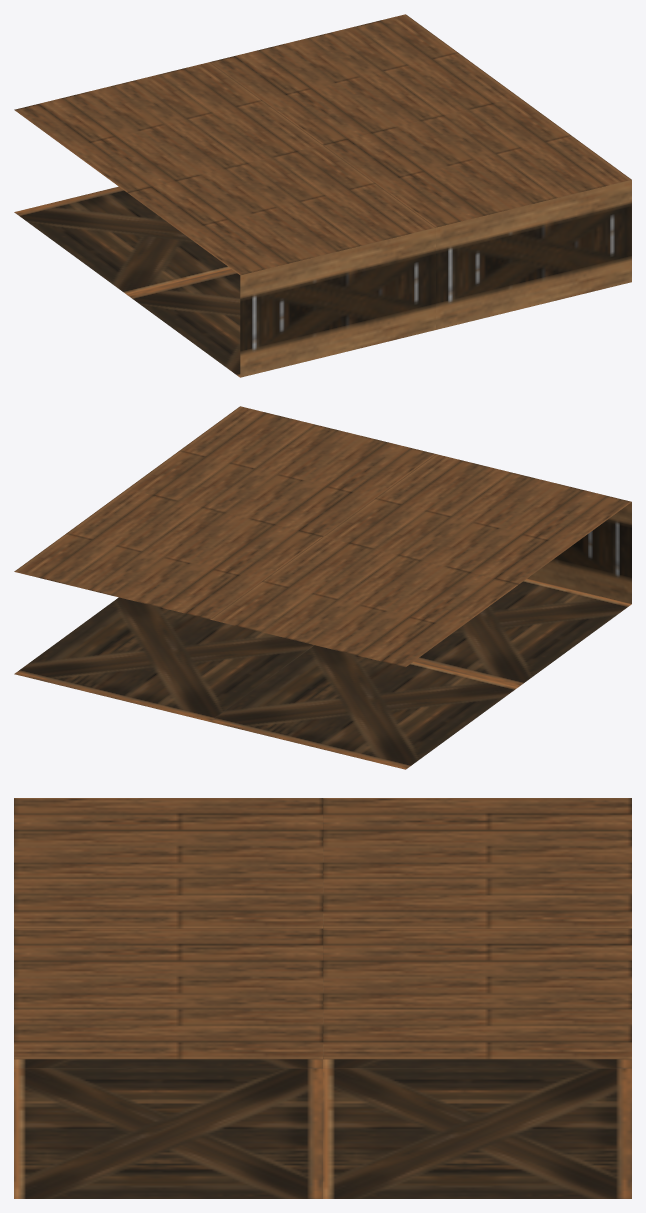
File: woodConnectedFloorCeiling.fbx
3 renders of one model, top to bottom at view 1: azimuth 30°, elevation 25°; view 2: azimuth 150°, elevation 25°; view 3: azimuth 270°, elevation 25°, orthographic. The views are drawn at different scales.
Parts seen in each view (by area): view 1: woodConnectedFloorCeiling; view 2: woodConnectedFloorCeiling; view 3: woodConnectedFloorCeiling.
Boxes of the visible parts, <box> form: woodConnectedFloorCeiling: <box>14,14,631,377</box>; woodConnectedFloorCeiling: <box>14,406,631,769</box>; woodConnectedFloorCeiling: <box>14,798,631,1198</box>.
Bounding box in the file's own units: 200 × 49.93 × 200.
1 material, 1 textured.
